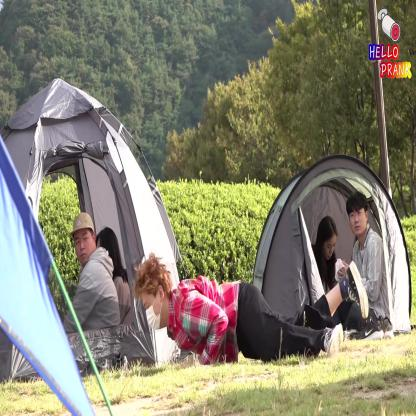Fall_Down: (134, 253, 372, 375)
